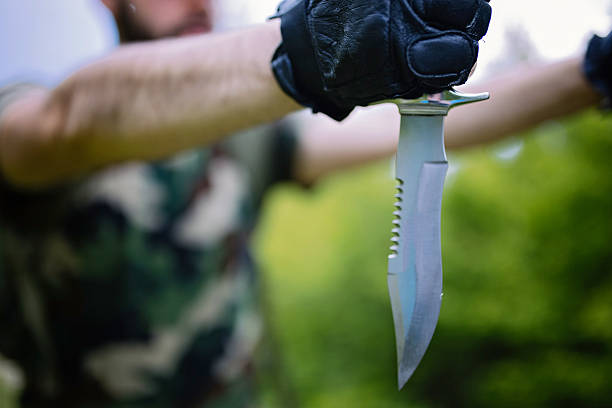knife: (383, 88, 491, 392)
